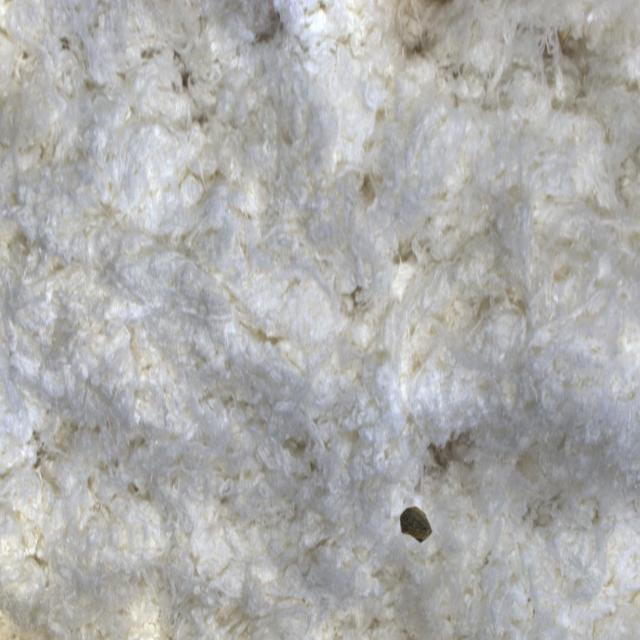dust: (391, 487, 449, 567)
